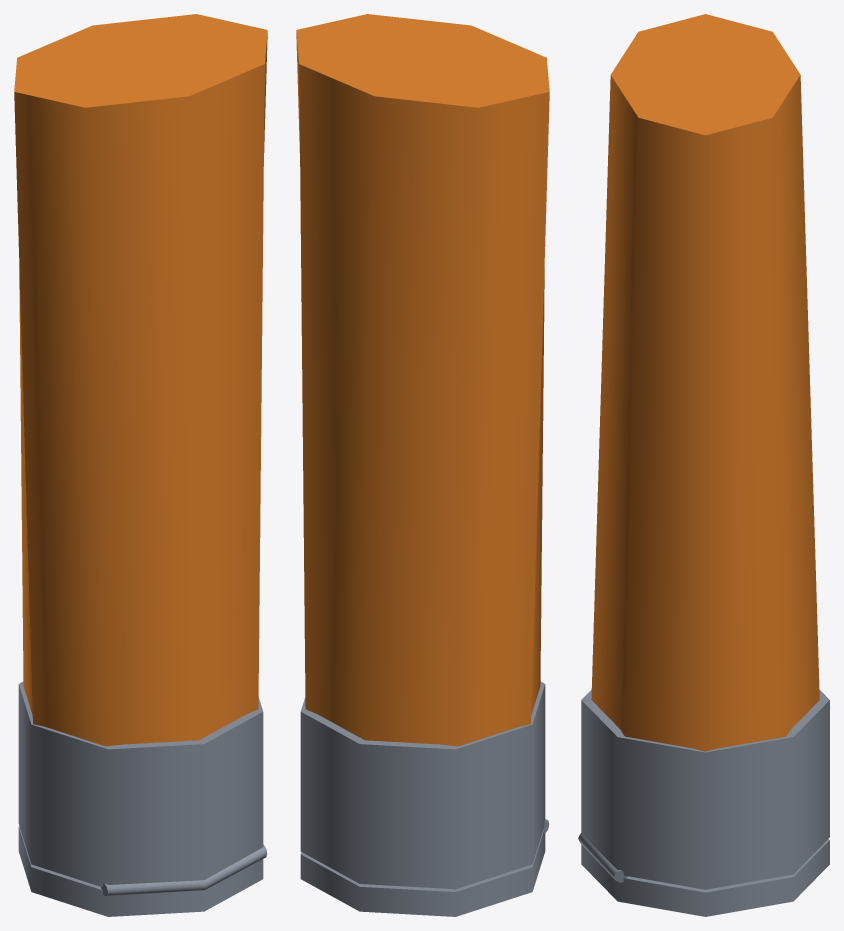
Rendered from Lotion Tube.glb.
The picture shows the model from 3 angles, left to right: view 1: azimuth 30°, elevation 25°; view 2: azimuth 150°, elevation 25°; view 3: azimuth 270°, elevation 25°; orthographic projection.
Visible parts, largest first — view 1: lotion_tube.003, lotion_tube_cap.003; view 2: lotion_tube.003, lotion_tube_cap.003; view 3: lotion_tube.003, lotion_tube_cap.003.
Part boxes in pixels (x1,y1,x2,y2): lotion_tube.003: [14, 14, 267, 896]; lotion_tube_cap.003: [18, 826, 263, 916]; lotion_tube.003: [296, 14, 549, 889]; lotion_tube_cap.003: [300, 830, 545, 916]; lotion_tube.003: [578, 14, 829, 889]; lotion_tube_cap.003: [581, 839, 829, 916].
Bounding box in the file's own units: 7.51 × 22.77 × 6.58.
Materials: 2 (2 with a texture image).
